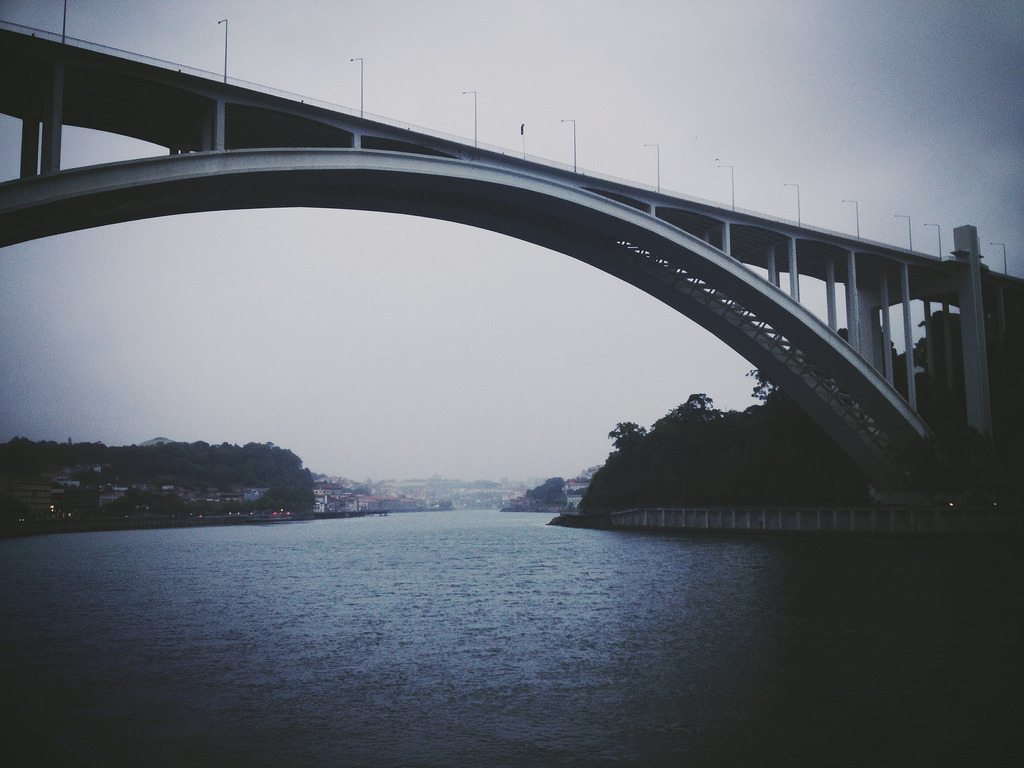arrabida: (0, 26, 1023, 505)
